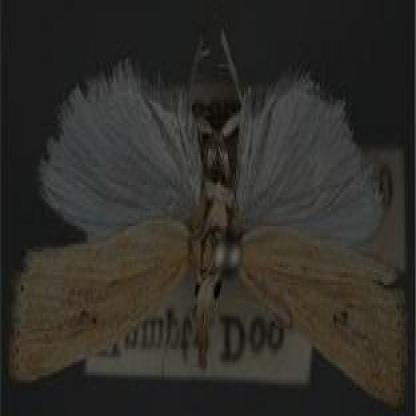stem-borer: (8, 24, 408, 409)
